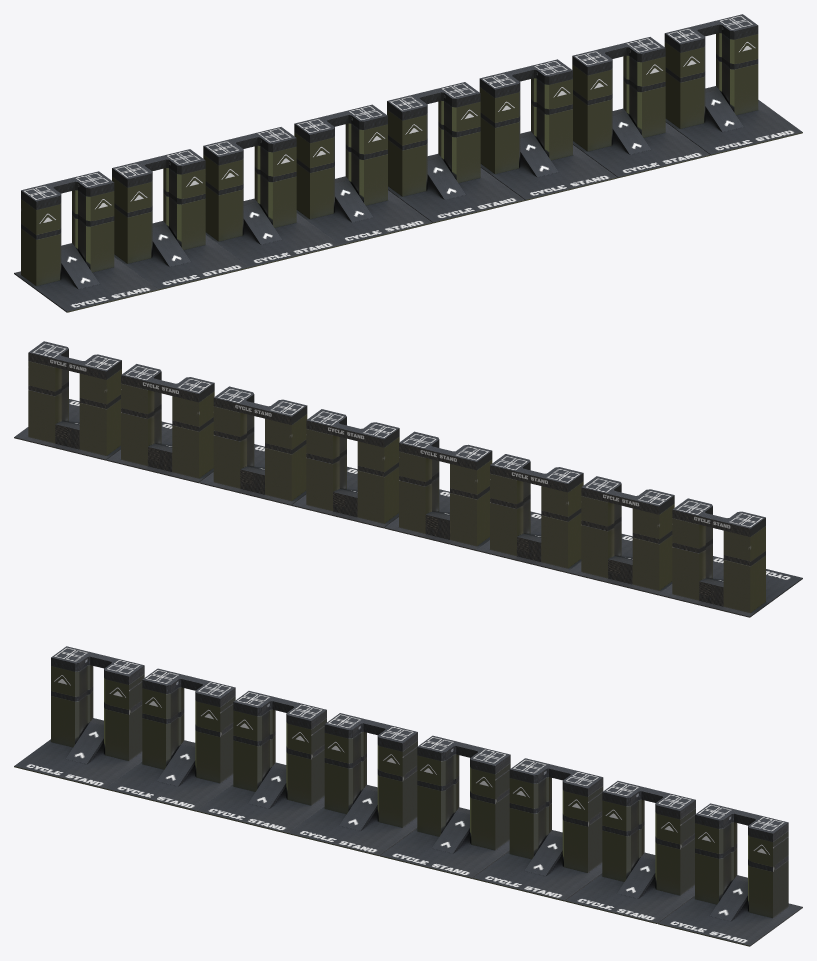
Rendered from stand.glb.
3 views of the same model, one above another, from view 1: azimuth 30°, elevation 25°; view 2: azimuth 150°, elevation 25°; view 3: azimuth 330°, elevation 25° (orthographic).
Parts seen in each view (by area): view 1: pCube266; view 2: pCube266; view 3: pCube266.
Boxes of the visible parts, x1,y1,x2,y2 form: pCube266: (14, 14, 802, 312); pCube266: (14, 341, 802, 617); pCube266: (14, 646, 802, 946).
Bounding box in the file's own units: 5.2 × 0.5998 × 0.6498.
1 material, 1 textured.
